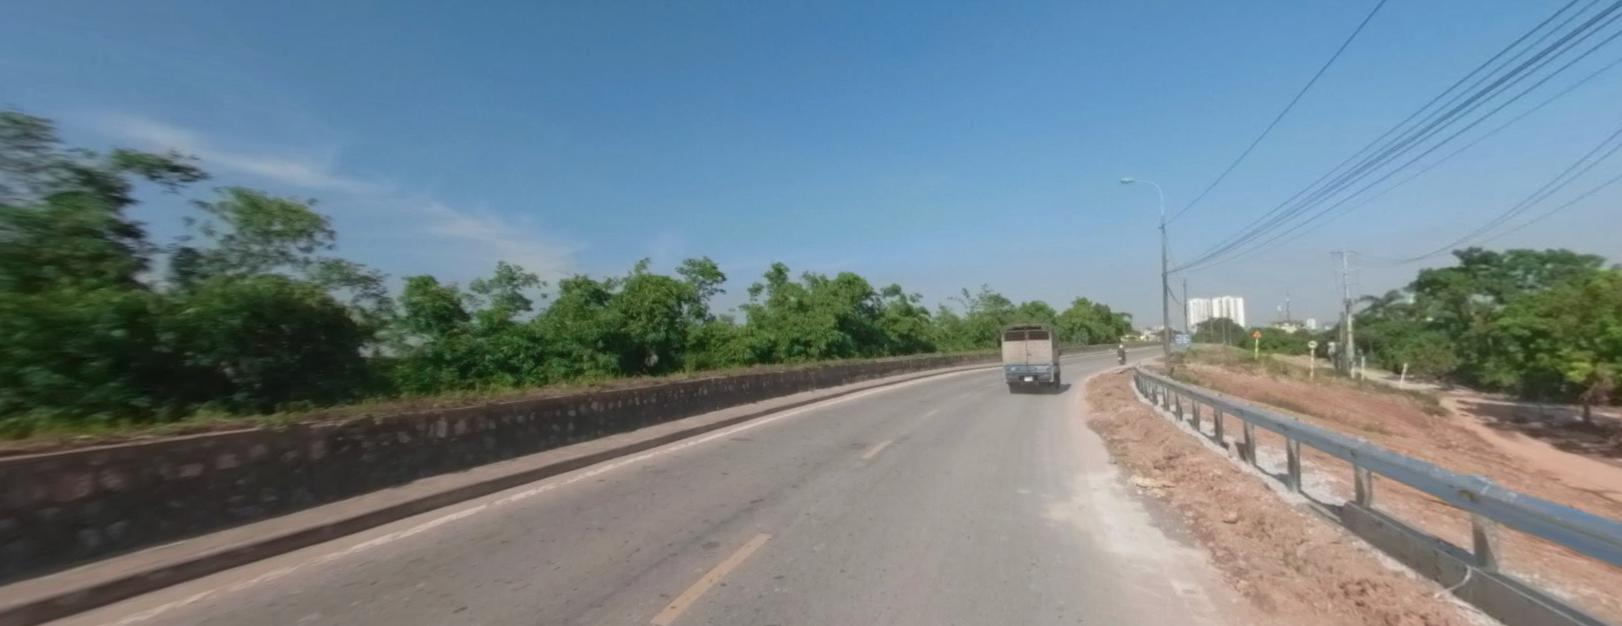Nguy hiem: (1252, 328, 1260, 335)
